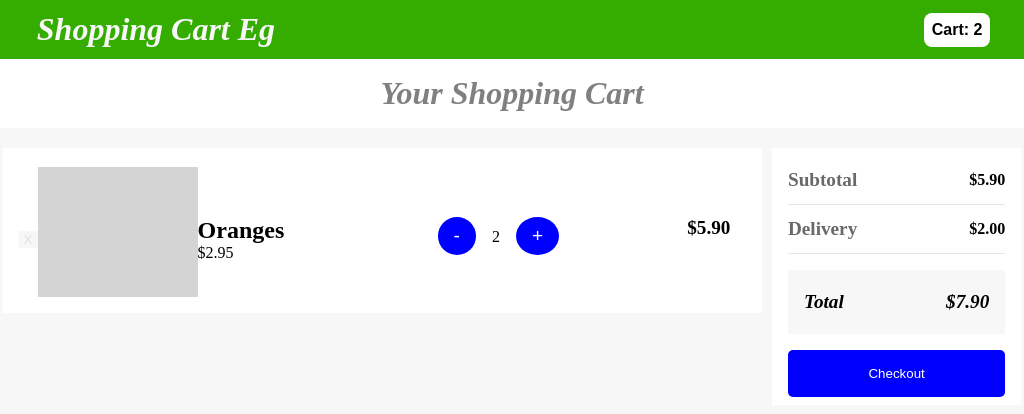
<Cart /> › should increase qty by 1 when add button is clicked when current qty is 2
Click the button "+": x=538, y=236 [516, 217, 559, 255]
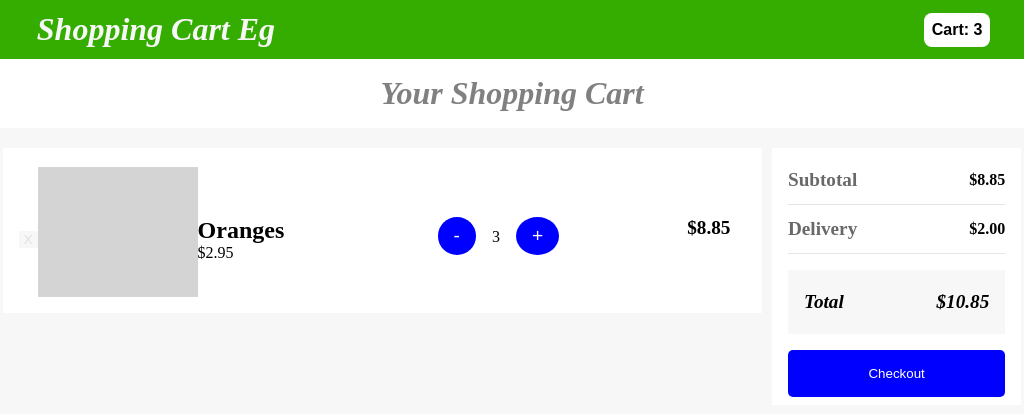
Result: the text titled "qty" reads "3" at [492, 228, 500, 245]
